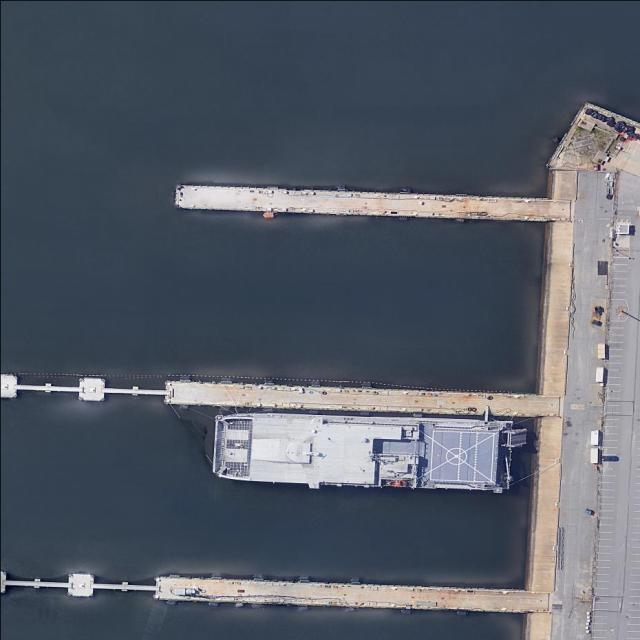Auxiliary Ships: (209, 408, 517, 498)
Dock: (65, 571, 531, 614), (77, 376, 541, 416), (175, 182, 553, 224)
